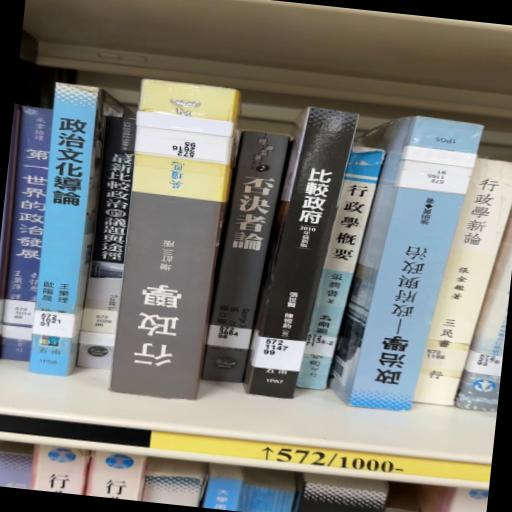reverse: (330, 117, 484, 412), (110, 81, 241, 401)
